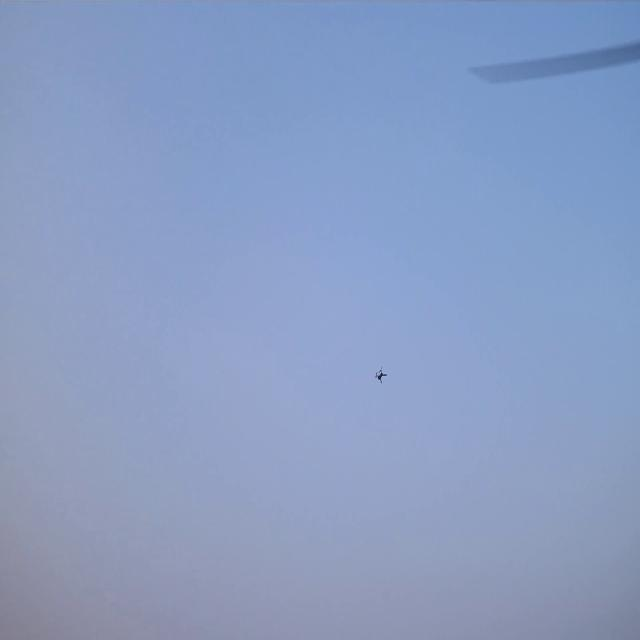UAV: (374, 365, 387, 385)
